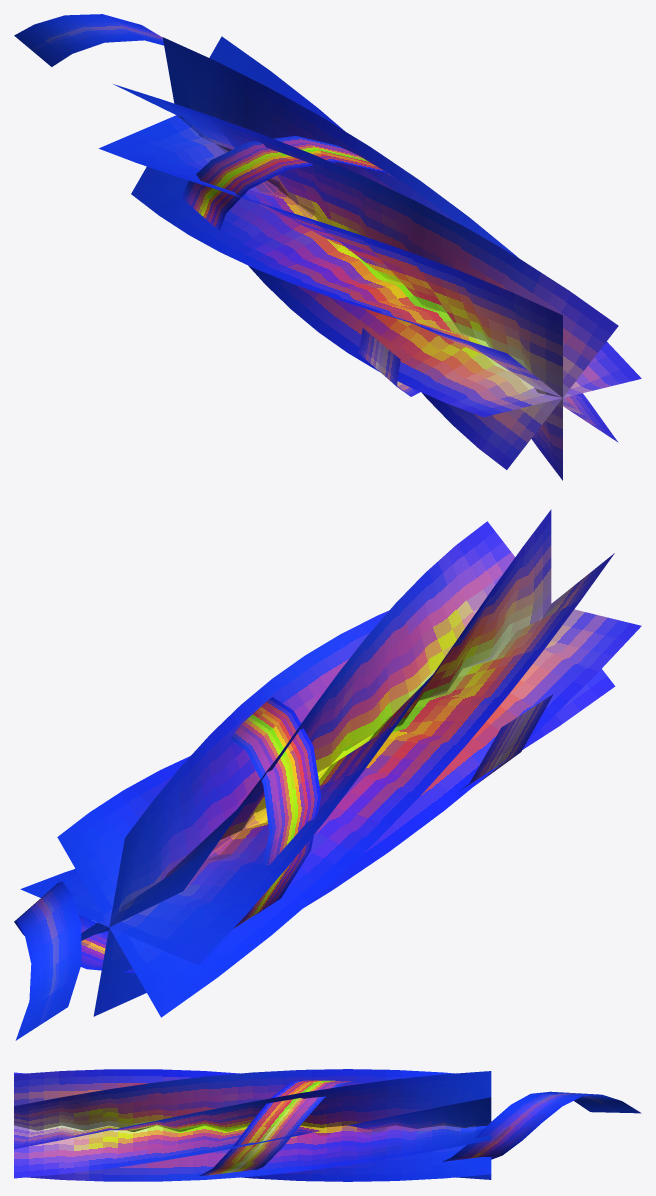
The model's file is WpnDuonBeam.obj.
The picture shows the model from 3 angles, top to bottom: view 1: azimuth 30°, elevation 25°; view 2: azimuth 150°, elevation 25°; view 3: azimuth 270°, elevation 25°; orthographic projection. The views are drawn at different scales.
Parts seen in each view (by area): view 1: polygon1, polygon0; view 2: polygon1, polygon0; view 3: polygon1, polygon0.
Part boxes in pixels (x1,y1,x2,y2): polygon1: (99, 36, 641, 480); polygon0: (14, 14, 420, 396); polygon1: (20, 509, 641, 1017); polygon0: (14, 694, 553, 1040); polygon1: (14, 1069, 491, 1181); polygon0: (199, 1080, 641, 1175).
Size of the model in its own units: 12.88 by 12.64 by 70.35.
2 materials, 2 textured.
